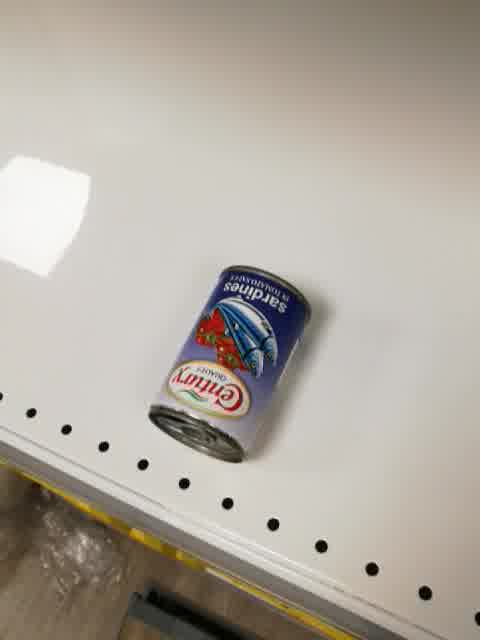sardine: (145, 265, 314, 463)
